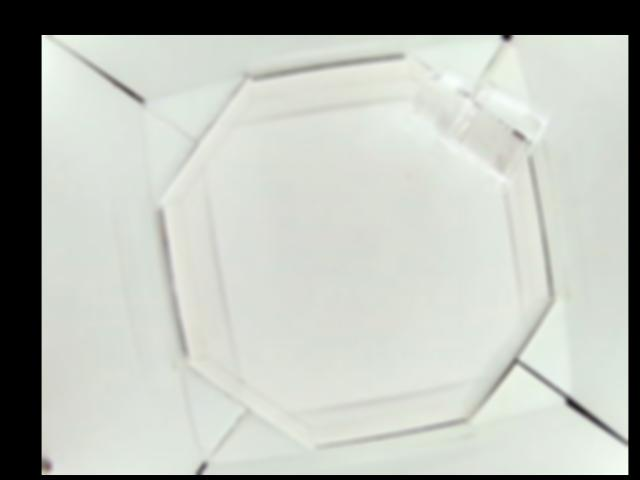Cup: (408, 67, 551, 177)
